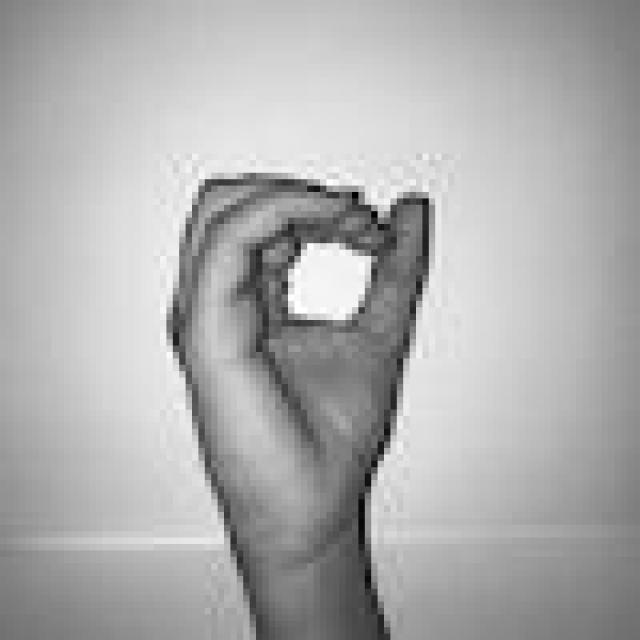O: (163, 160, 445, 544)
